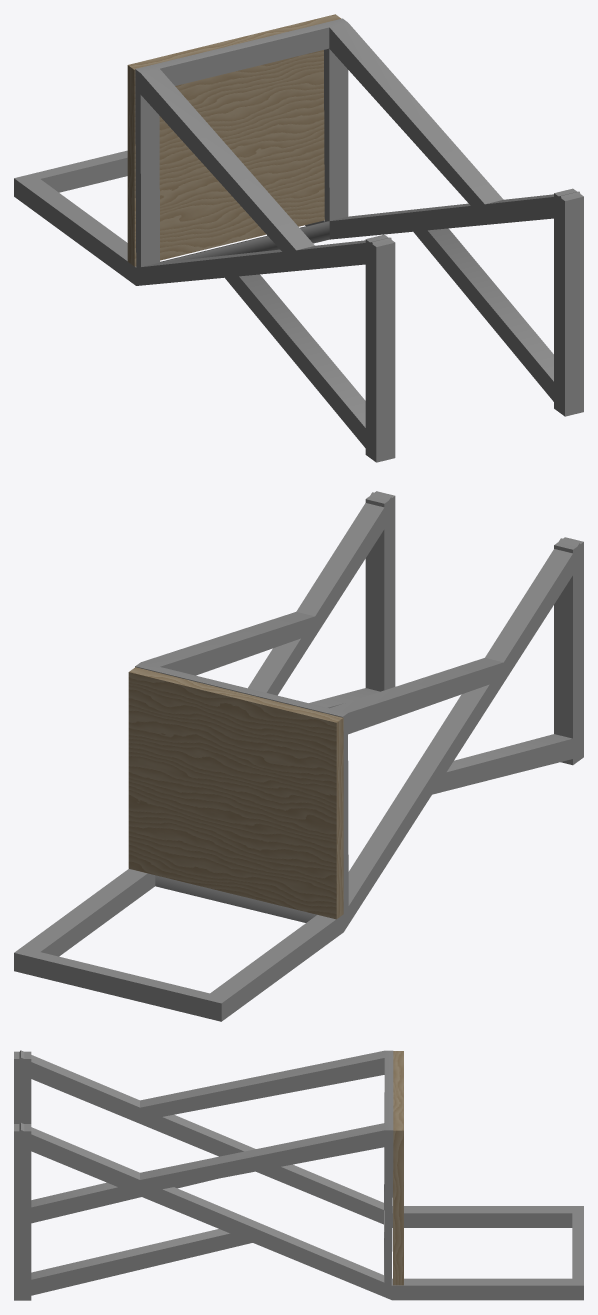
The picture shows the model from 3 angles, top to bottom: view 1: azimuth 30°, elevation 25°; view 2: azimuth 150°, elevation 25°; view 3: azimuth 270°, elevation 25°; orthographic projection. The views are drawn at different scales.
Visible parts, largest first — view 1: Cube.001; view 2: Cube.001; view 3: Cube.001.
Boxes of the visible parts, x1,y1,x2,y2 form: Cube.001: [14, 14, 583, 462]; Cube.001: [14, 491, 583, 1021]; Cube.001: [14, 1050, 583, 1300].
Size of the model in its own units: 49.86 by 49.77 by 150.
